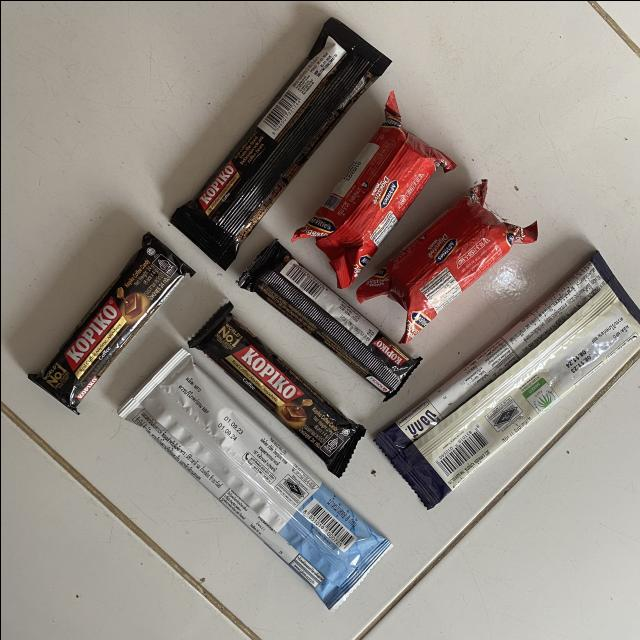plastik: (119, 349, 391, 608), (375, 252, 640, 507), (170, 17, 391, 267), (291, 91, 454, 287), (189, 301, 364, 474), (27, 231, 194, 412), (356, 179, 536, 342), (236, 239, 420, 398)
